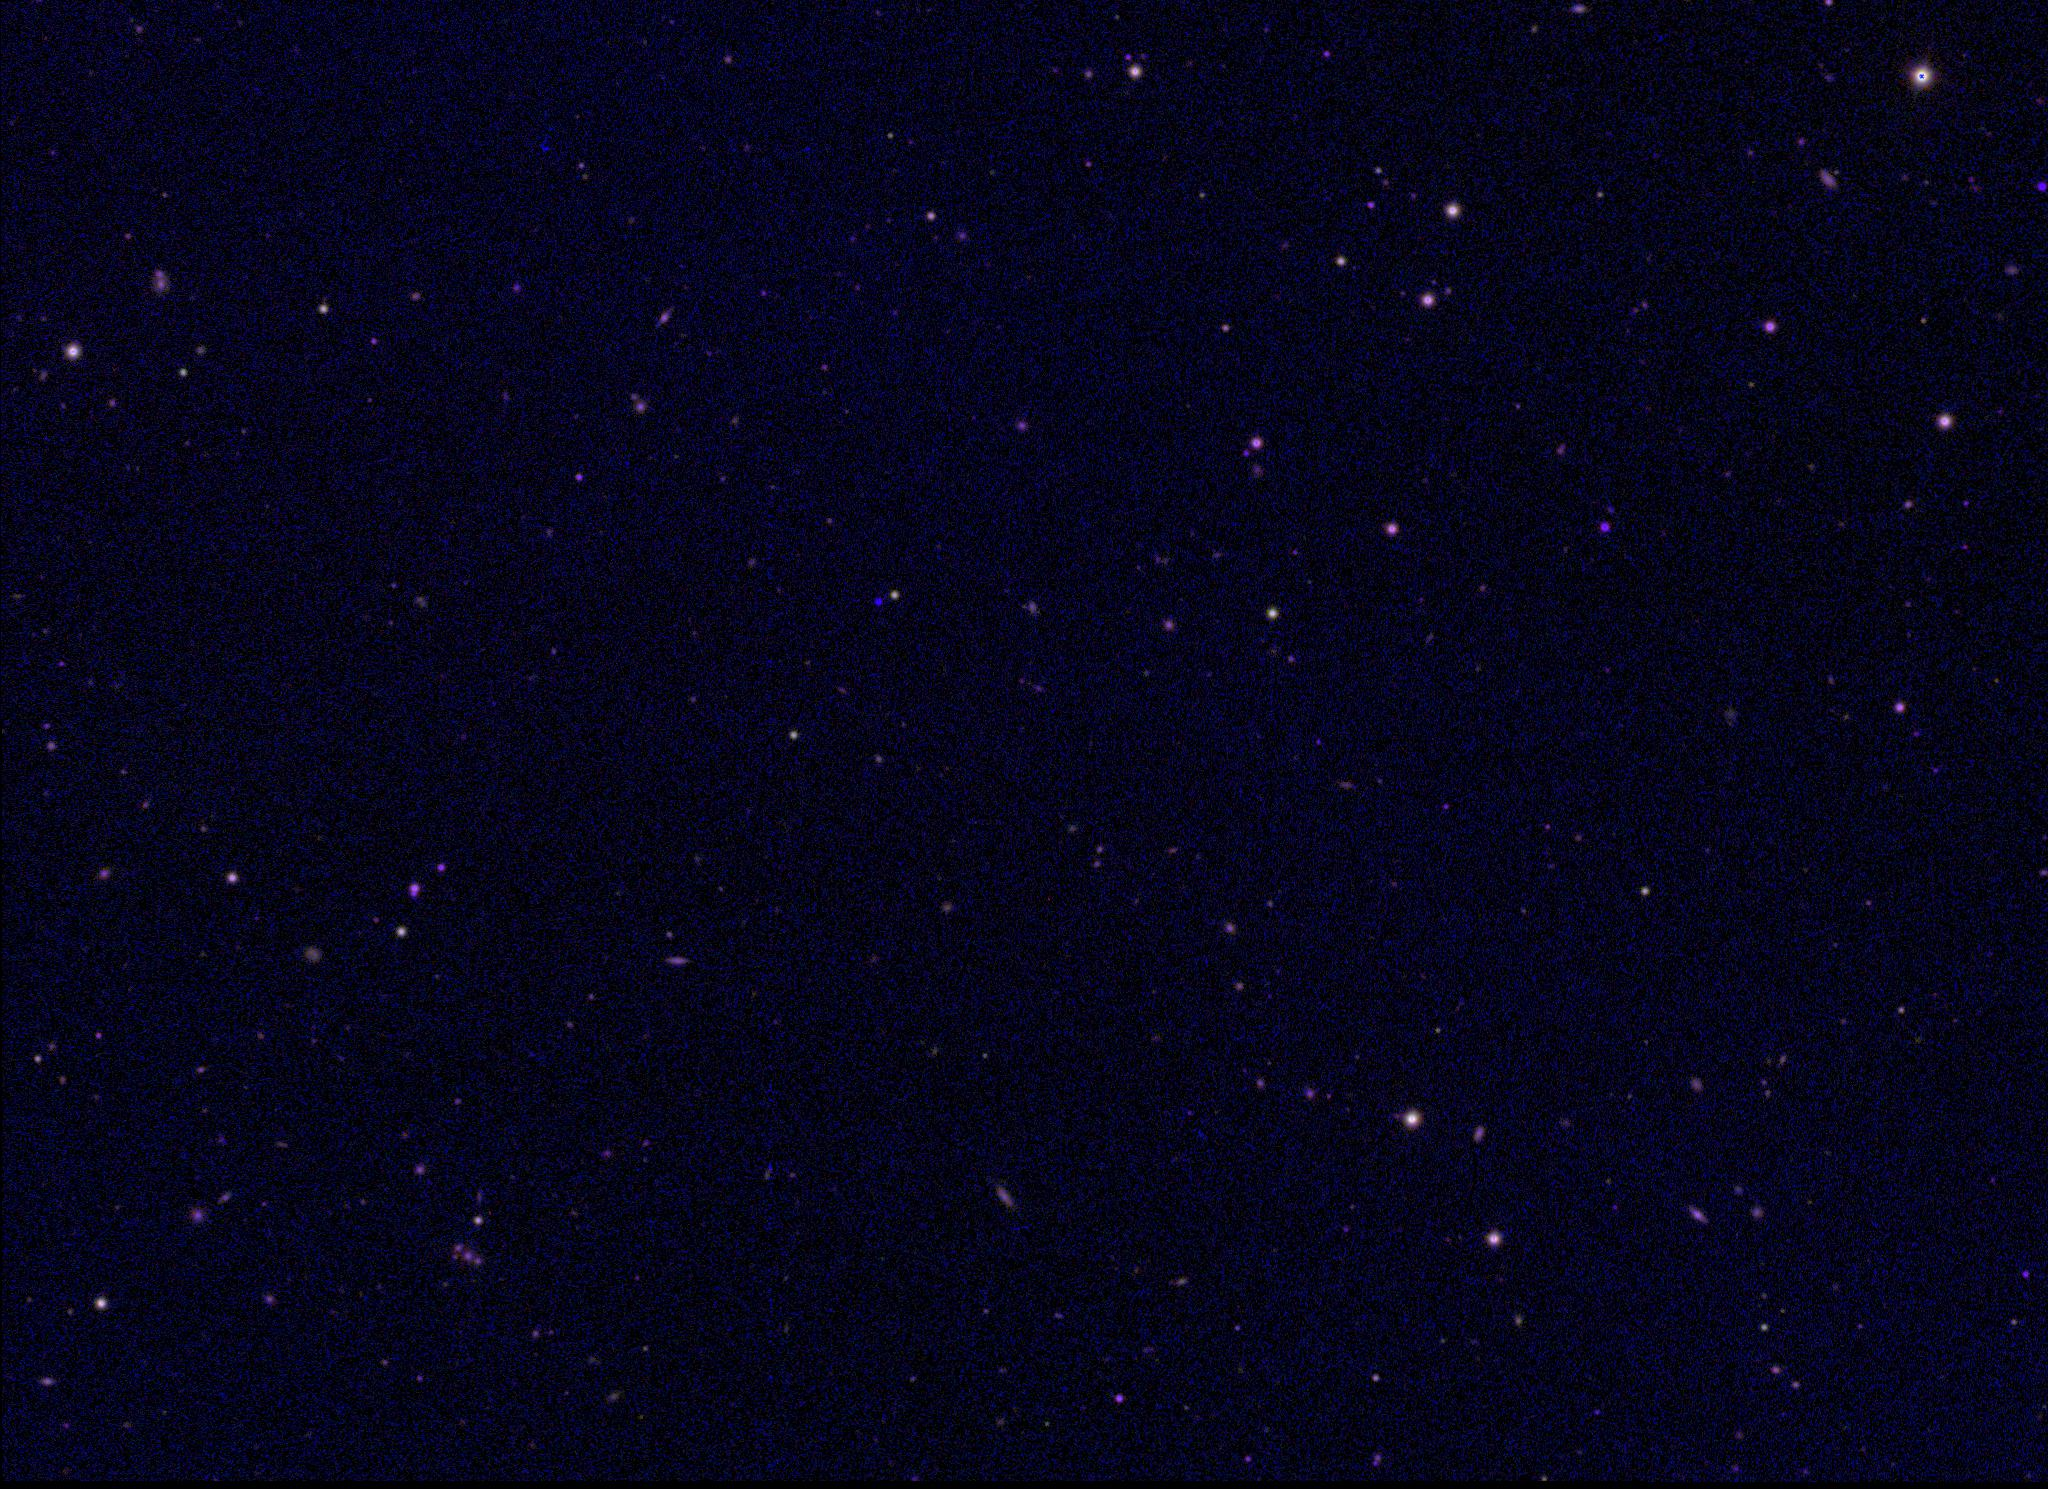L: (871, 593, 886, 608)
